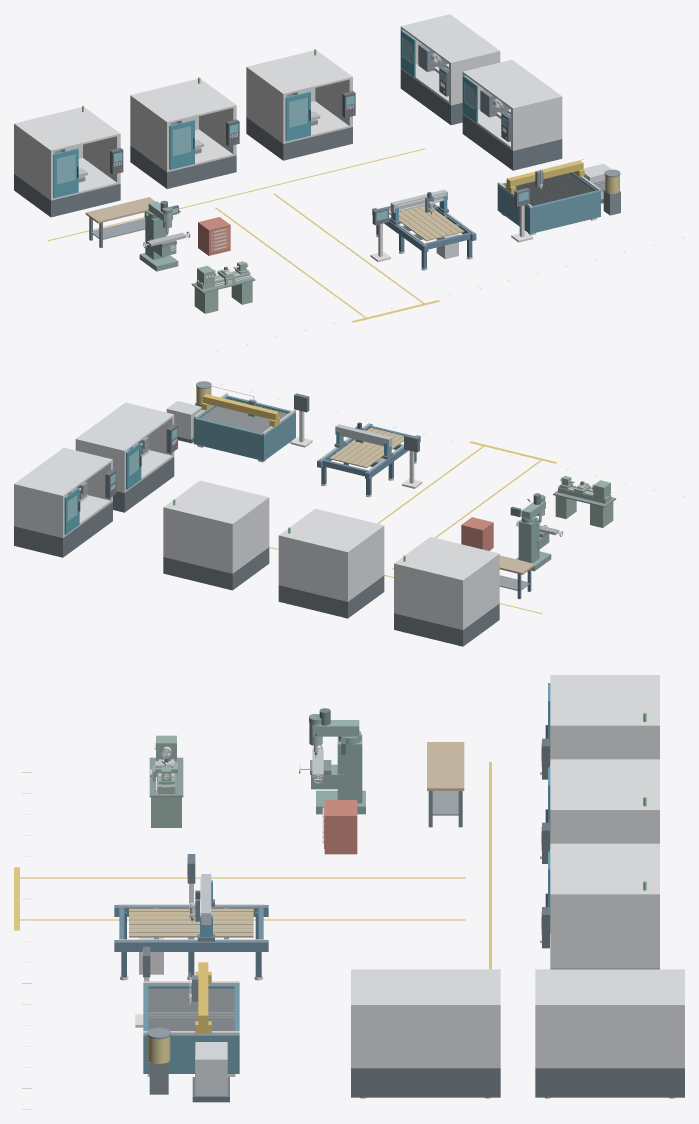
The model's file is topography-relief.gltf.
The picture shows the model from 3 angles, top to bottom: view 1: azimuth 30°, elevation 25°; view 2: azimuth 150°, elevation 25°; view 3: azimuth 270°, elevation 25°; orthographic projection. The views are drawn at different scales.
Size of what is drawn, in the model's own units: 16.51 by 2.48 by 13.46.
